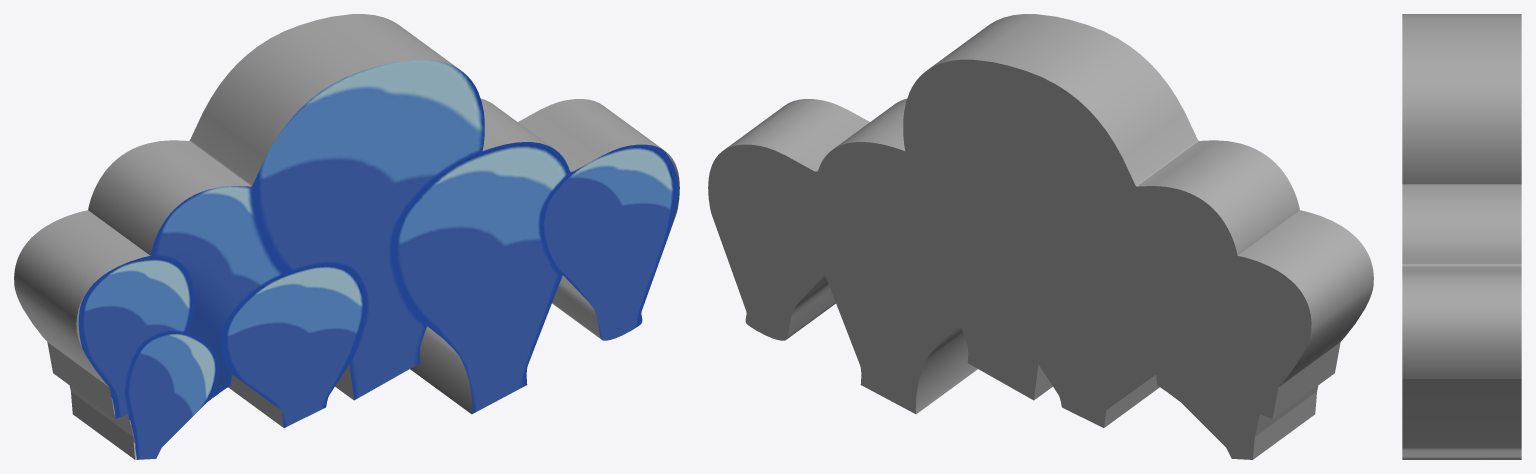
3 renders of one model, left to right at view 1: azimuth 30°, elevation 25°; view 2: azimuth 150°, elevation 25°; view 3: azimuth 270°, elevation 25°, orthographic. The views are drawn at different scales.
Visible parts, largest first — view 1: 挤压_1; view 2: 挤压_1; view 3: 挤压_1.
Boxes of the visible parts, <box> form: 挤压_1: <box>14,14,679,459</box>; 挤压_1: <box>708,14,1373,459</box>; 挤压_1: <box>1402,14,1521,459</box>.
Size of the model in its own units: 793 by 466 by 142.
